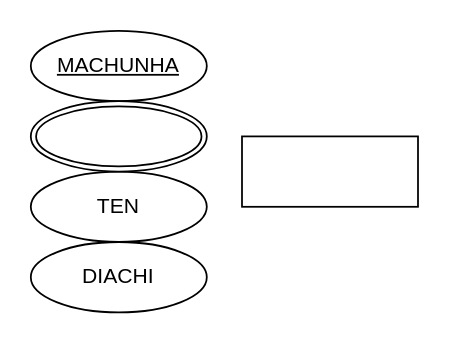
Image size: 449x343. Some labels were removed from this diagram. The centre of each missing label's shape, as x and y in pixels:
CHUNHA: (329,171)
DIENTHOAI: (118,135)
